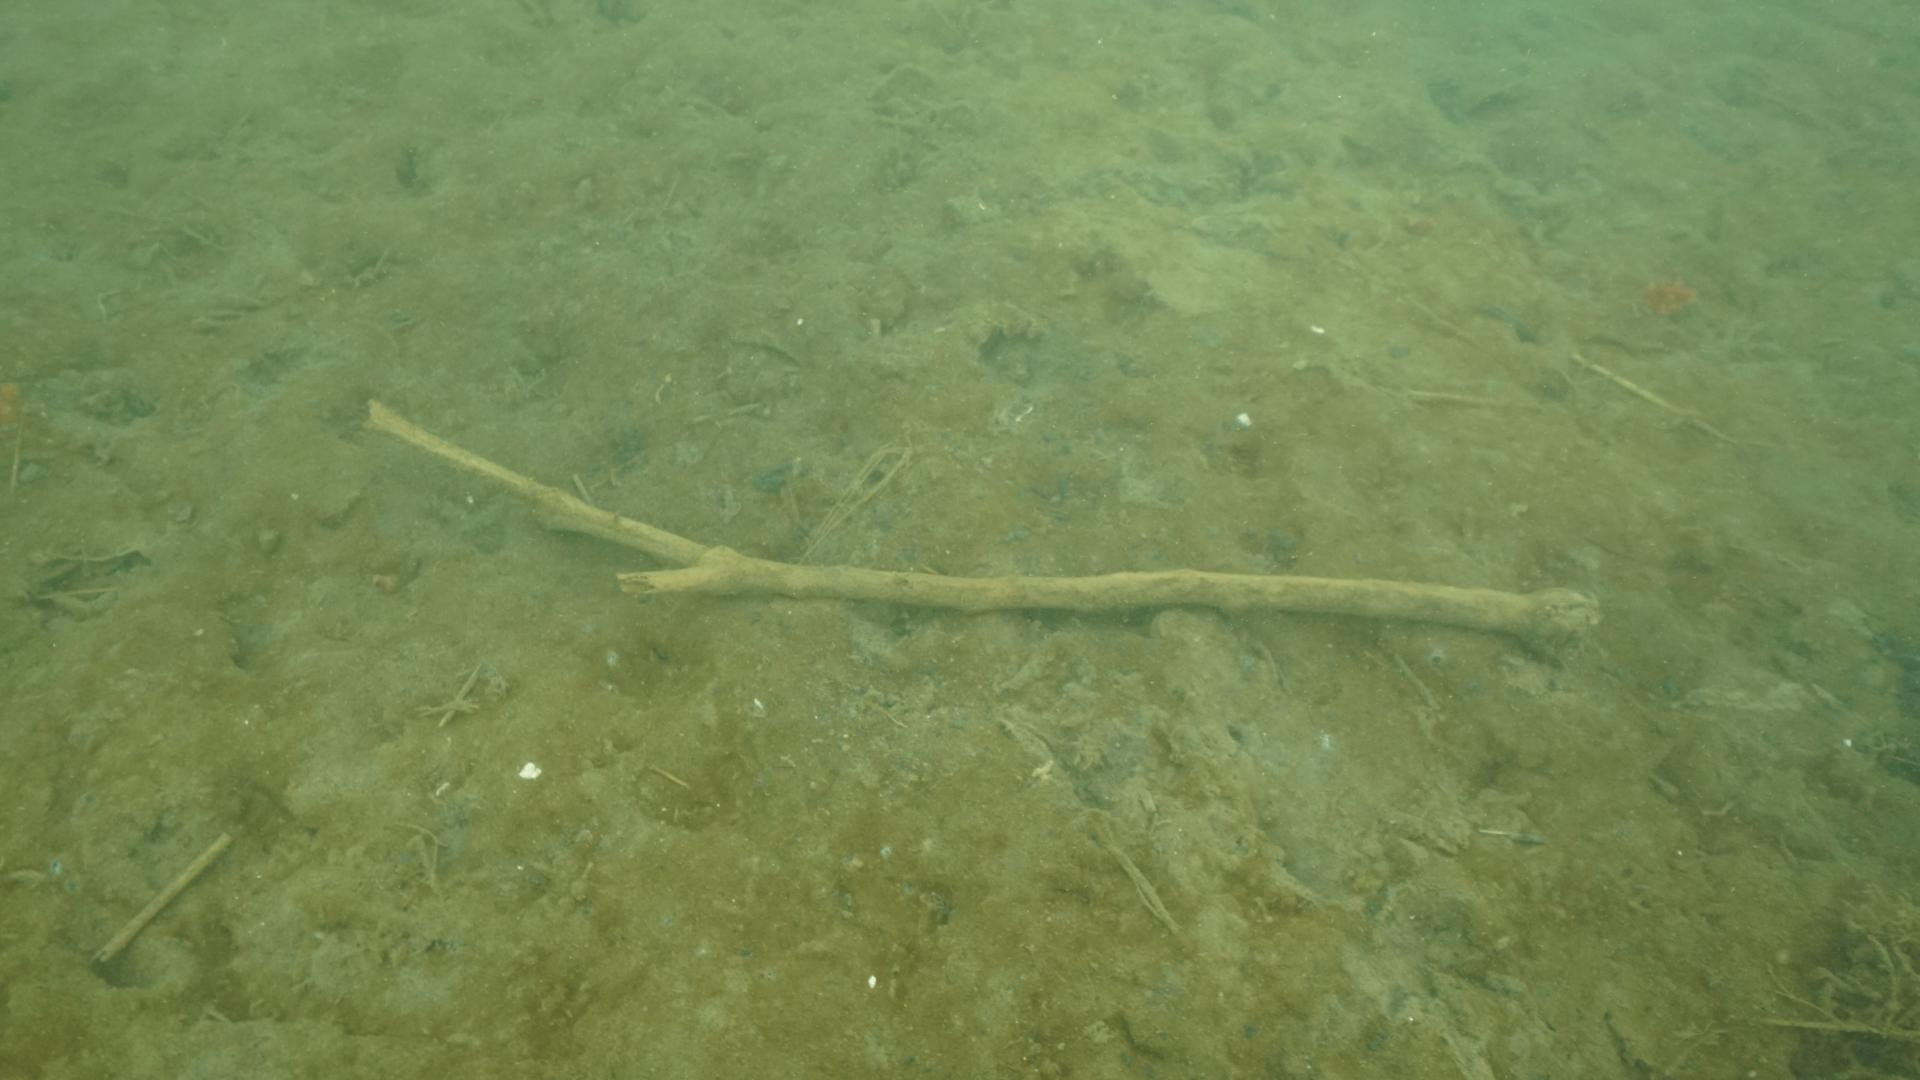wood: (357, 396, 1605, 662)
